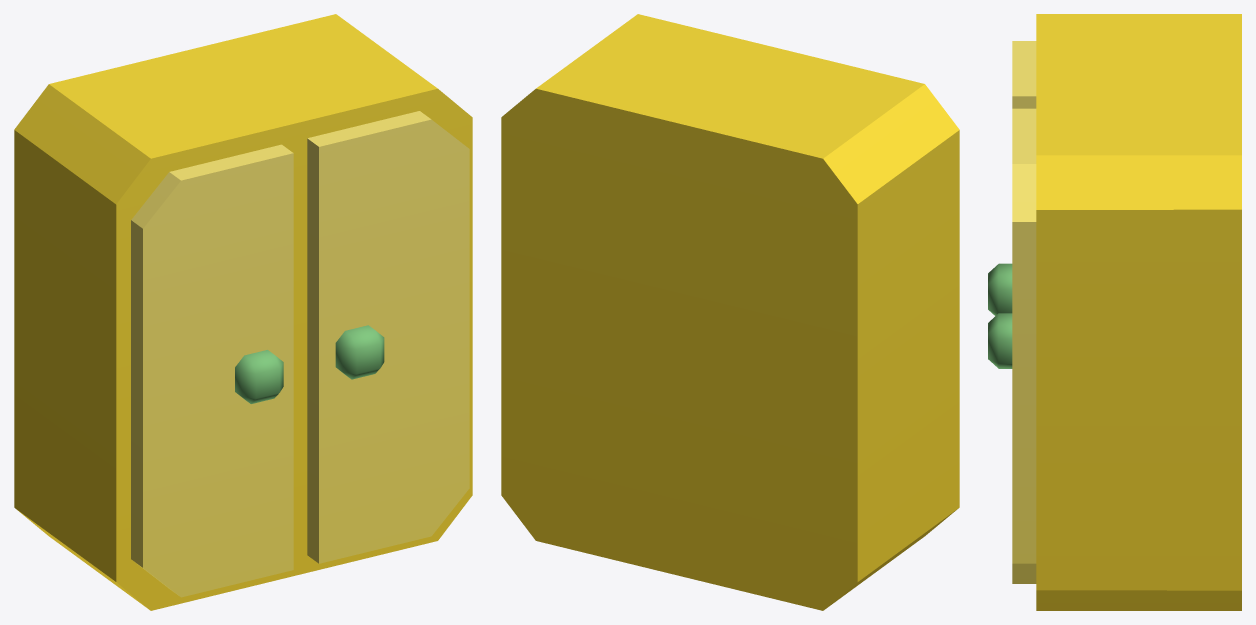
Rendered from Kitchen Shelf Side .fbx.
The picture shows the model from 3 angles, left to right: view 1: azimuth 30°, elevation 25°; view 2: azimuth 150°, elevation 25°; view 3: azimuth 270°, elevation 25°; orthographic projection.
Parts seen in each view (by area): view 1: Cube.004; view 2: Cube.004; view 3: Cube.004.
Part boxes in pixels (box(x1,y1,x2,y2)): Cube.004: box(14, 14, 472, 610); Cube.004: box(501, 14, 959, 610); Cube.004: box(988, 14, 1241, 610).
Size of the model in its own units: 151 by 183 by 92.27.
1 material, 1 textured.
